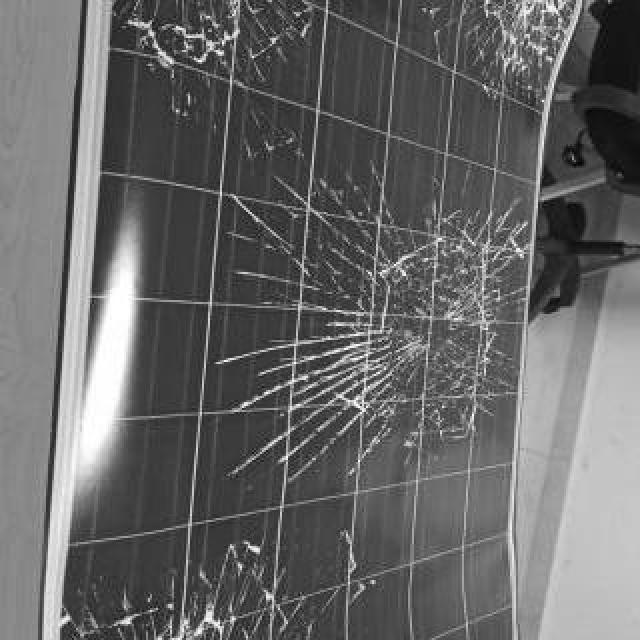Physical-damage: (186, 161, 537, 491), (119, 0, 336, 166), (57, 529, 377, 640), (422, 0, 579, 111)
